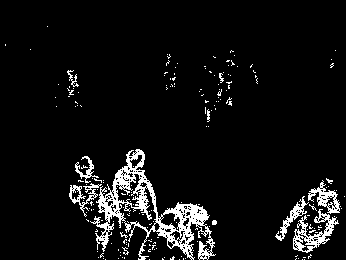person: (275, 171, 344, 260), (112, 148, 158, 260), (68, 156, 116, 260)
